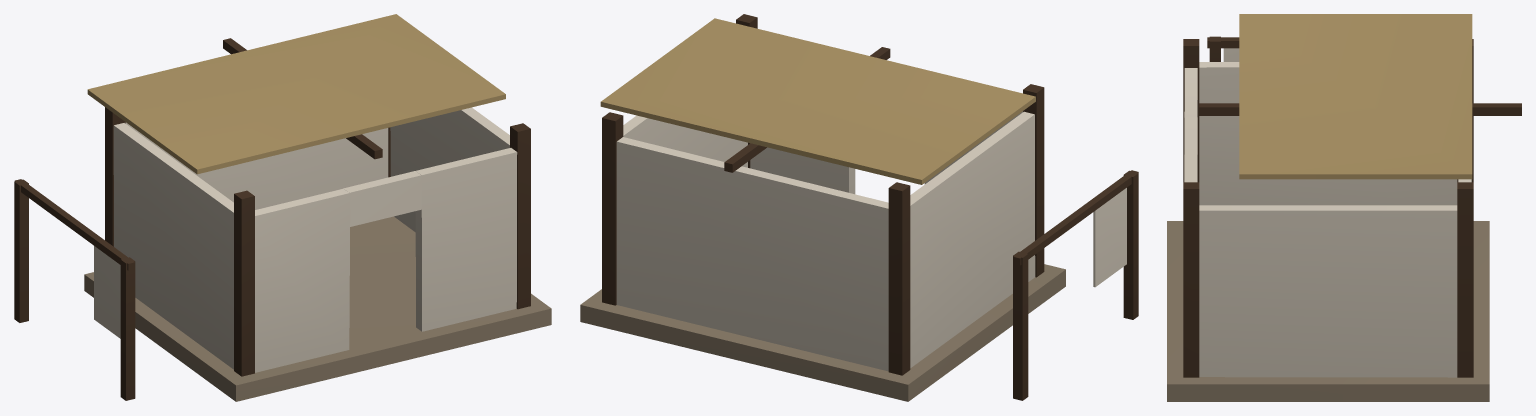
Rendered from caral_house_aspero_lod1.glb.
The picture shows the model from 3 angles, left to right: view 1: azimuth 30°, elevation 25°; view 2: azimuth 150°, elevation 25°; view 3: azimuth 270°, elevation 25°; orthographic projection. The views are drawn at different scales.
Visible parts, largest first — view 1: GEO-Arch_house_aspero_LOD1; view 2: GEO-Arch_house_aspero_LOD1; view 3: GEO-Arch_house_aspero_LOD1.
Part boxes in pixels (bbox=[...]): GEO-Arch_house_aspero_LOD1: bbox=[14, 14, 551, 401]; GEO-Arch_house_aspero_LOD1: bbox=[580, 14, 1138, 401]; GEO-Arch_house_aspero_LOD1: bbox=[1167, 14, 1521, 401].
Size of the model in its own units: 6.17 by 3.03 by 4.4.
